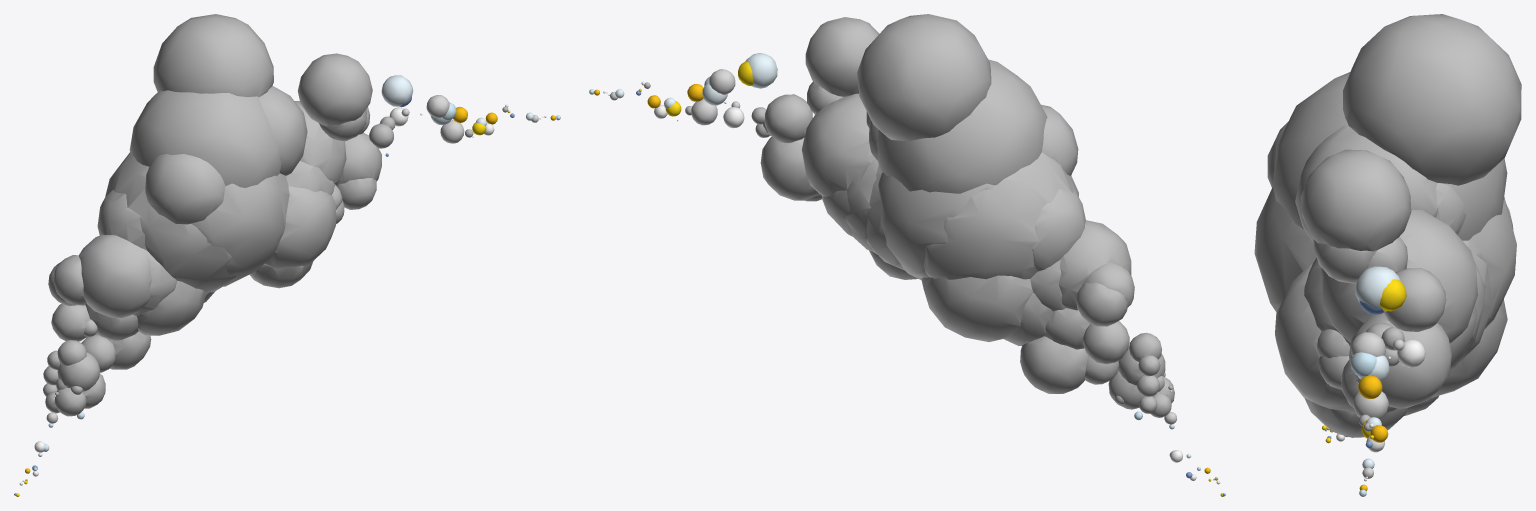
Rendered from cloud3.gltf.
3 renders of one model, left to right at view 1: azimuth 30°, elevation 25°; view 2: azimuth 150°, elevation 25°; view 3: azimuth 270°, elevation 25°, orthographic. The views are drawn at different scales.
Visible parts, largest first — view 1: Part 32, Part 35, Part 31; view 2: Part 32, Part 35, Part 31; view 3: Part 32, Part 35, Part 31, Part 22, Part 26, Part 33, Part 29, Part 25, Part 21, Part 24.
Part boxes in pixels (x1,y1,x2,y2): Part 32: (43,14,395,416); Part 35: (129,90,281,187); Part 31: (381,75,413,106); Part 32: (751,14,1174,417); Part 35: (876,59,1047,193); Part 31: (745,53,777,88); Part 32: (1254,14,1521,437); Part 35: (1272,72,1507,240); Part 31: (1355,266,1400,311); Part 22: (1353,391,1388,419); Part 26: (1350,332,1385,356); Part 33: (1380,279,1406,311); Part 29: (1397,339,1425,367); Part 25: (1350,352,1376,377); Part 21: (1358,375,1382,398); Part 24: (1358,355,1389,381).
Bounding box in the file's own units: 0.0838 × 0.0568 × 0.0233.
